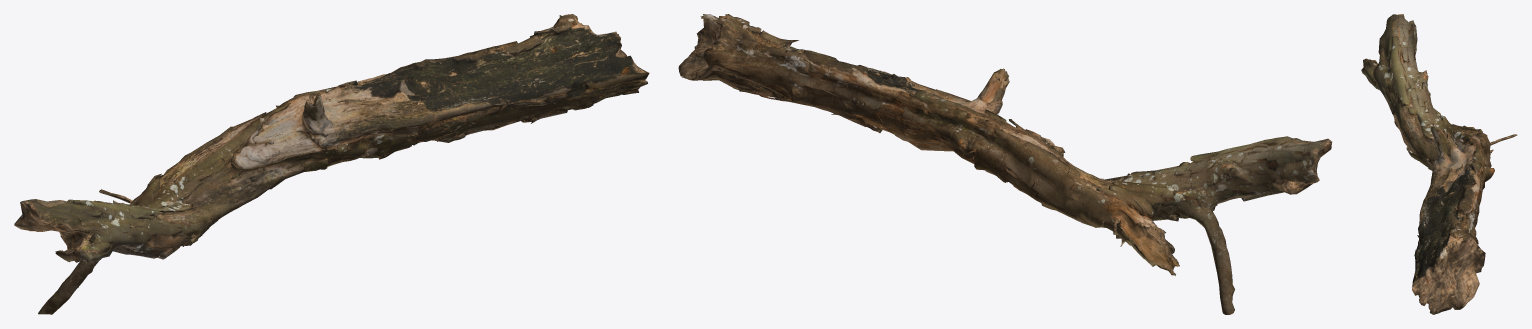
Rendered from fallen_spruce.glb.
The picture shows the model from 3 angles, left to right: view 1: azimuth 30°, elevation 25°; view 2: azimuth 150°, elevation 25°; view 3: azimuth 270°, elevation 25°; orthographic projection. The views are drawn at different scales.
Visible parts, largest first — view 1: dead_tree_trunk_02_b; view 2: dead_tree_trunk_02_b; view 3: dead_tree_trunk_02_b.
Part boxes in pixels (x1,y1,x2,y2): dead_tree_trunk_02_b: [14, 14, 649, 314]; dead_tree_trunk_02_b: [678, 14, 1332, 314]; dead_tree_trunk_02_b: [1361, 14, 1517, 314].
Bounding box in the file's own units: 13.82 × 3.61 × 3.6.
Materials: 1 (1 with a texture image).
